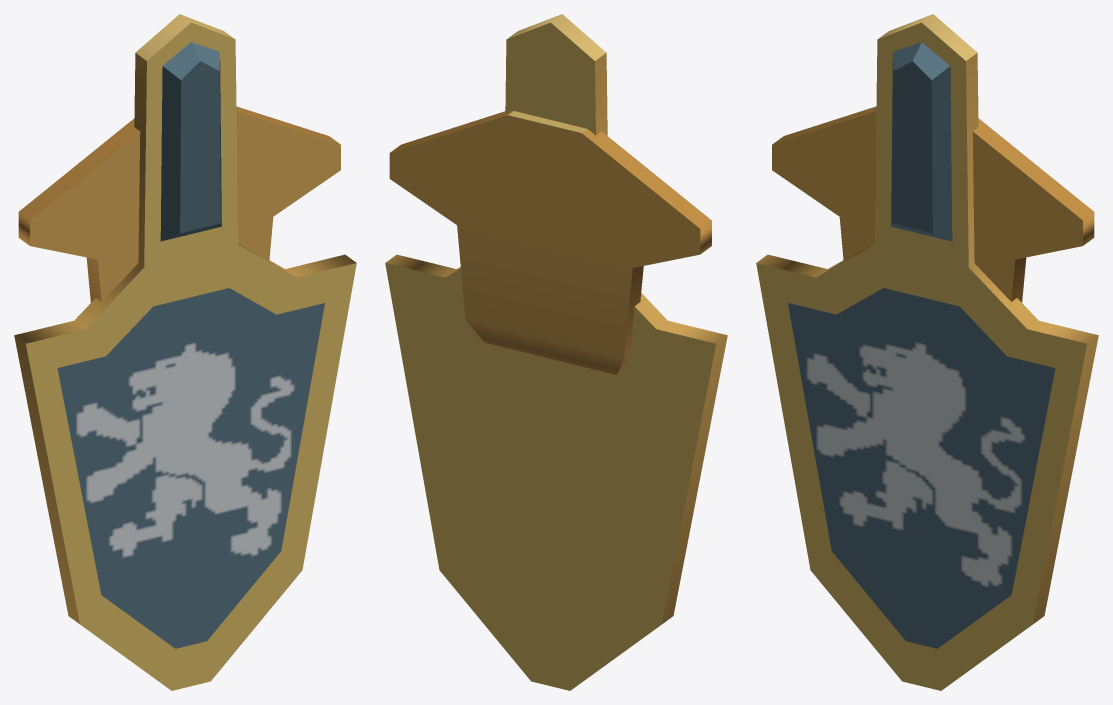
Rendered from SF_Wep_Elven_Sheild_01.fbx.
3 views of the same model, side by side, from view 1: azimuth 30°, elevation 25°; view 2: azimuth 150°, elevation 25°; view 3: azimuth 330°, elevation 25° (orthographic).
Parts seen in each view (by area): view 1: SF_Wep_Elven_Sheild_01; view 2: SF_Wep_Elven_Sheild_01; view 3: SF_Wep_Elven_Sheild_01.
Boxes of the visible parts, bbox=[...] form: SF_Wep_Elven_Sheild_01: bbox=[14, 14, 356, 690]; SF_Wep_Elven_Sheild_01: bbox=[385, 14, 727, 690]; SF_Wep_Elven_Sheild_01: bbox=[756, 14, 1098, 690].
Size of the model in its own units: 0.7938 by 1.52 by 0.1102.
